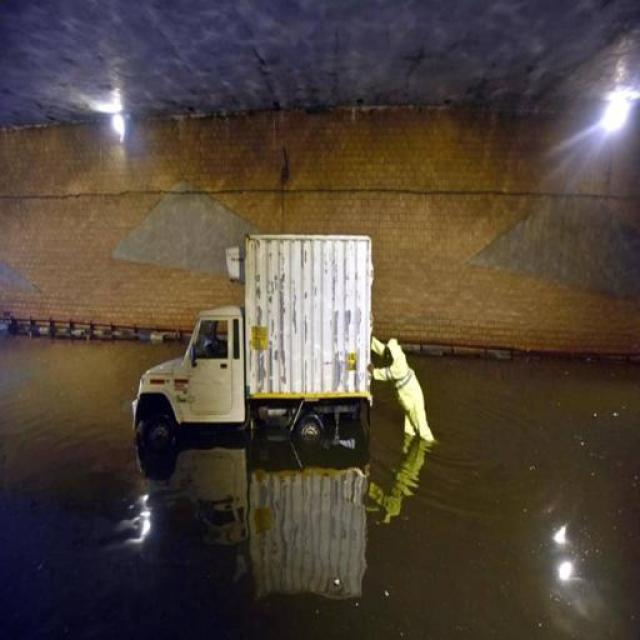puddle: (13, 482, 640, 640), (434, 359, 640, 594), (8, 338, 153, 576)
